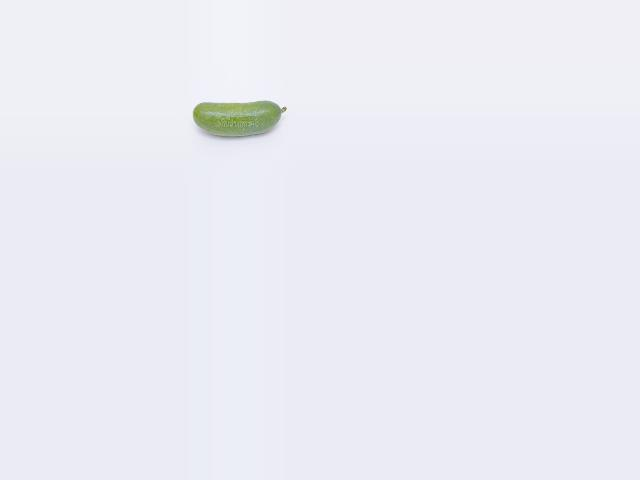cucumber: (192, 101, 286, 137)
